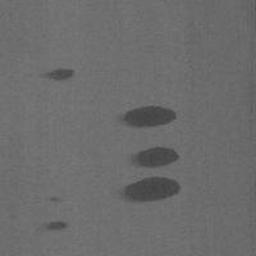Oil spot: (111, 175, 182, 204), (115, 105, 178, 131), (129, 146, 182, 169), (37, 68, 77, 83), (42, 220, 68, 232), (50, 195, 60, 205)
